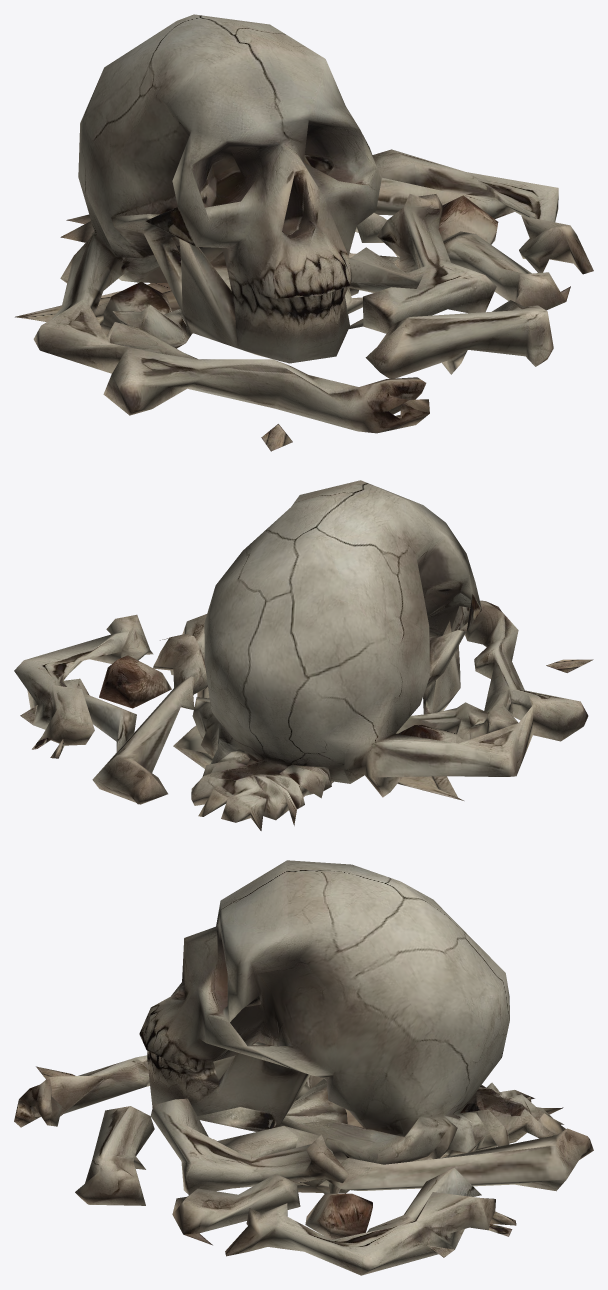
The model's file is prop-den-bone.glb.
3 renders of one model, top to bottom at view 1: azimuth 30°, elevation 25°; view 2: azimuth 150°, elevation 25°; view 3: azimuth 270°, elevation 25°, orthographic. The views are drawn at different scales.
Size of the model in its own units: 1.96 by 0.9667 by 2.
Materials: 1 (1 with a texture image).
